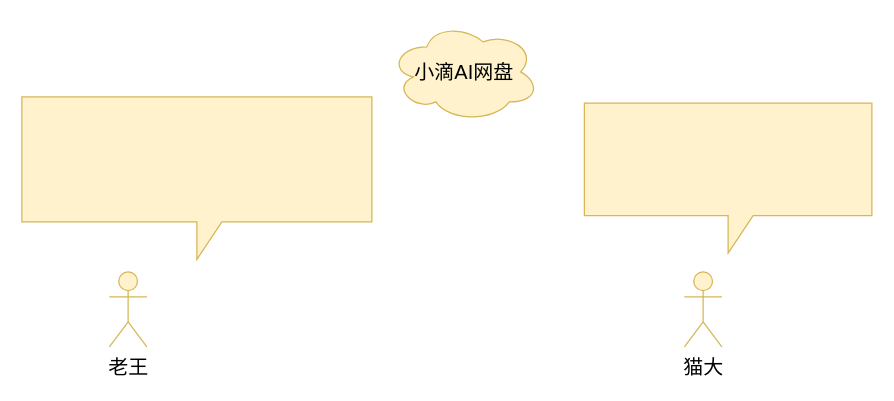
The diagram is 894 pixels wide and 401 high, and some of its shapes have lost their labels. The centre of each missing label's shape, as x and y in pixels:
Hi，猫大 我发冰冰和Anna的小视频给你: (196,177)
发我小滴网盘？ 我请你去按摩: (727,177)
